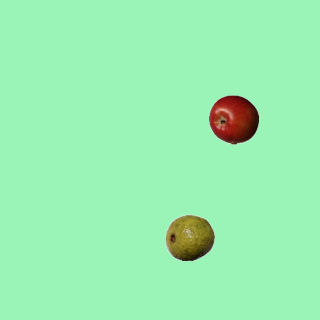Apple Braeburn: (208, 94, 258, 144)
Guava: (164, 212, 214, 262)
